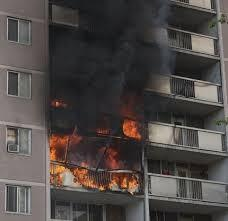fire: (44, 125, 141, 192), (121, 117, 142, 139)
